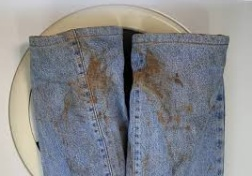earth: (138, 51, 162, 95), (83, 55, 109, 95)
